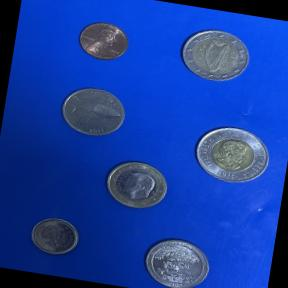coin: (186, 118, 278, 194), (172, 20, 260, 90), (97, 154, 175, 218), (136, 227, 217, 288), (55, 79, 133, 142), (22, 211, 86, 263), (72, 14, 134, 66)
